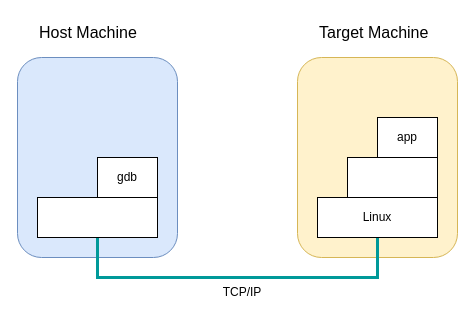
The diagram is 475 pixels wide and 324 high, and some of its shapes have lost their labels. Here are the shapes that lost their labels. From the top down, the centre of each, then its label:
At pixel 392 177: "gdbserver".
At pixel 97 217: "Host OS (Linux)".
